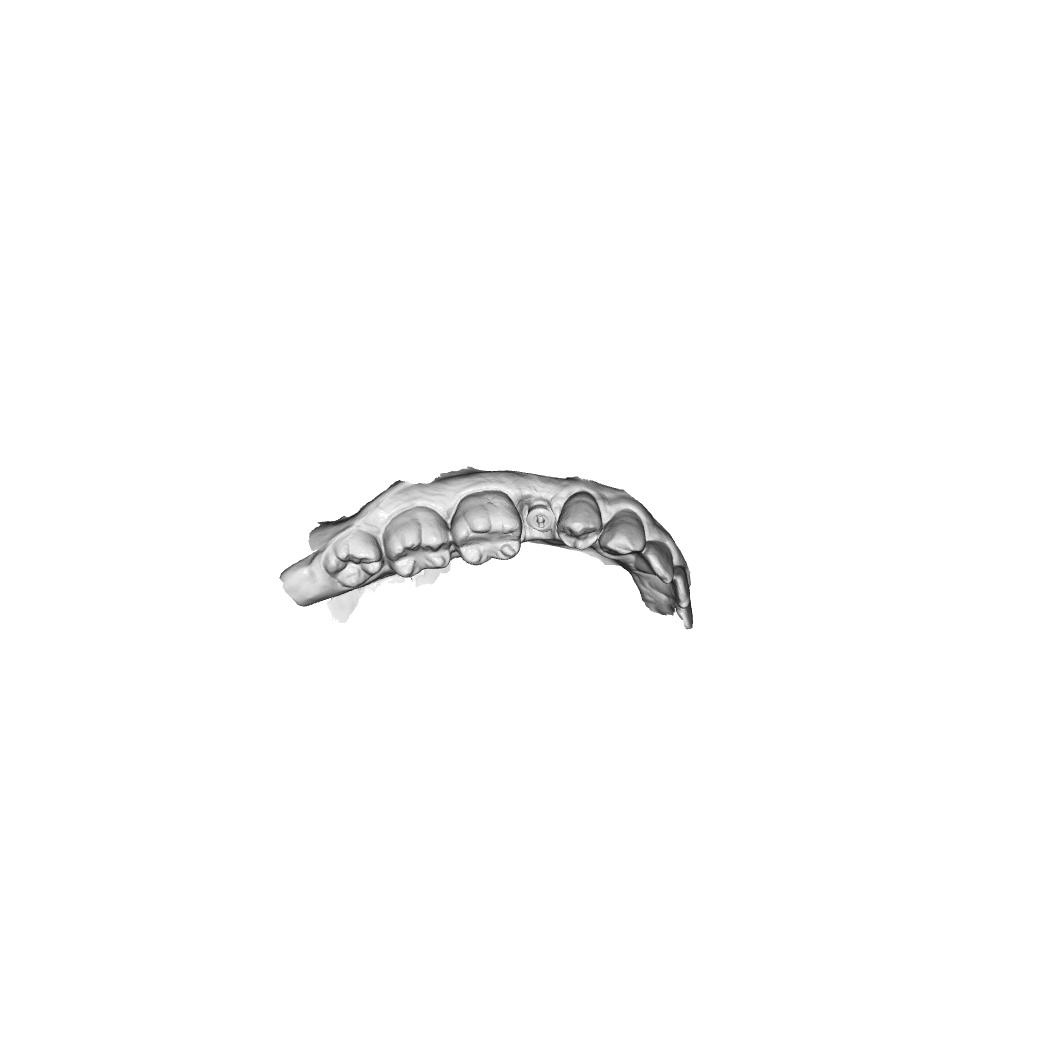canine: (599, 506, 647, 557)
implant_minus: (525, 501, 557, 534)
incisor: (649, 566, 692, 610), (636, 539, 676, 585)
molar: (451, 489, 523, 567), (382, 504, 453, 578), (322, 527, 387, 589)
premolar: (556, 491, 605, 552)
